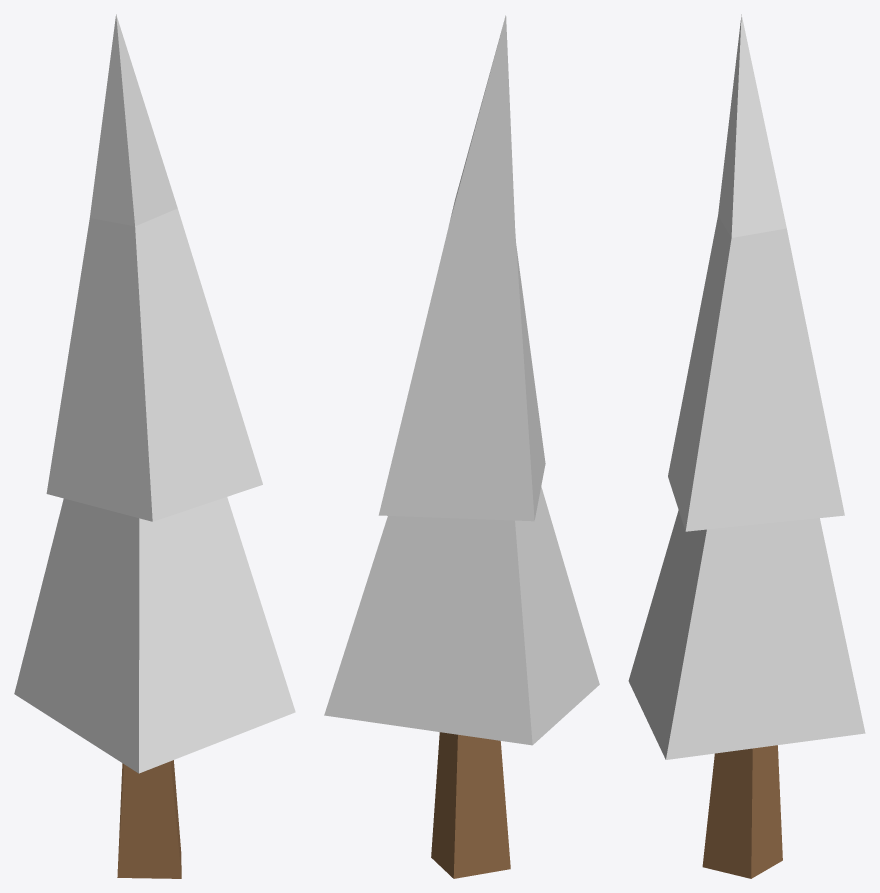
File: Fir_Tree_OneSided_s_Snow_08.fbx
3 renders of one model, left to right at view 1: azimuth 30°, elevation 25°; view 2: azimuth 150°, elevation 25°; view 3: azimuth 270°, elevation 25°, orthographic. The views are drawn at different scales.
Visible parts, largest first — view 1: Fir_Tree_OneSided_s_Snow_08; view 2: Fir_Tree_OneSided_s_Snow_08; view 3: Fir_Tree_OneSided_s_Snow_08.
Part boxes in pixels (<box>): Fir_Tree_OneSided_s_Snow_08: <box>14,14,295,878</box>; Fir_Tree_OneSided_s_Snow_08: <box>324,15,599,878</box>; Fir_Tree_OneSided_s_Snow_08: <box>628,14,865,878</box>.
Size of the model in its own units: 37.08 by 149 by 38.49.
